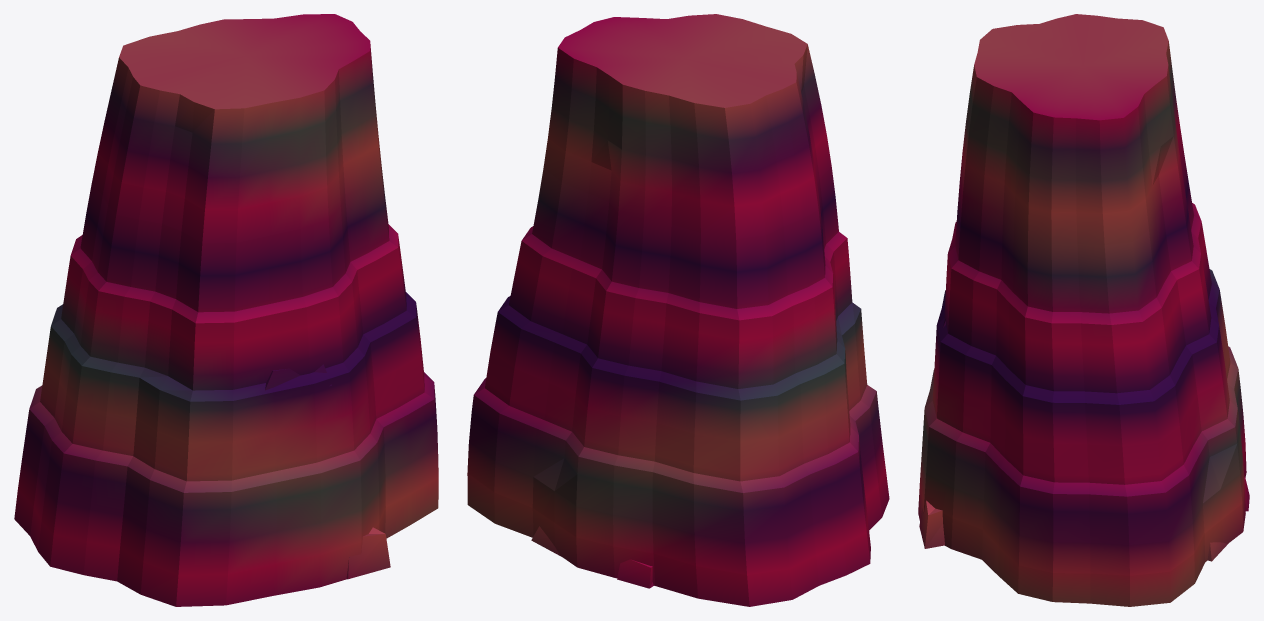
File: SM_CinderCanyon_Rock_A.fbx
3 views of the same model, side by side, from view 1: azimuth 30°, elevation 25°; view 2: azimuth 150°, elevation 25°; view 3: azimuth 270°, elevation 25° (orthographic). The views are drawn at different scales.
Parts seen in each view (by area): view 1: SM_CinderCanyon_Rock_A; view 2: SM_CinderCanyon_Rock_A; view 3: SM_CinderCanyon_Rock_A.
Boxes of the visible parts, box(x1,y1,x2,y2) form: SM_CinderCanyon_Rock_A: box(14, 14, 438, 606); SM_CinderCanyon_Rock_A: box(467, 14, 889, 606); SM_CinderCanyon_Rock_A: box(918, 14, 1249, 606).
Size of the model in its own units: 100 by 78 by 118.
